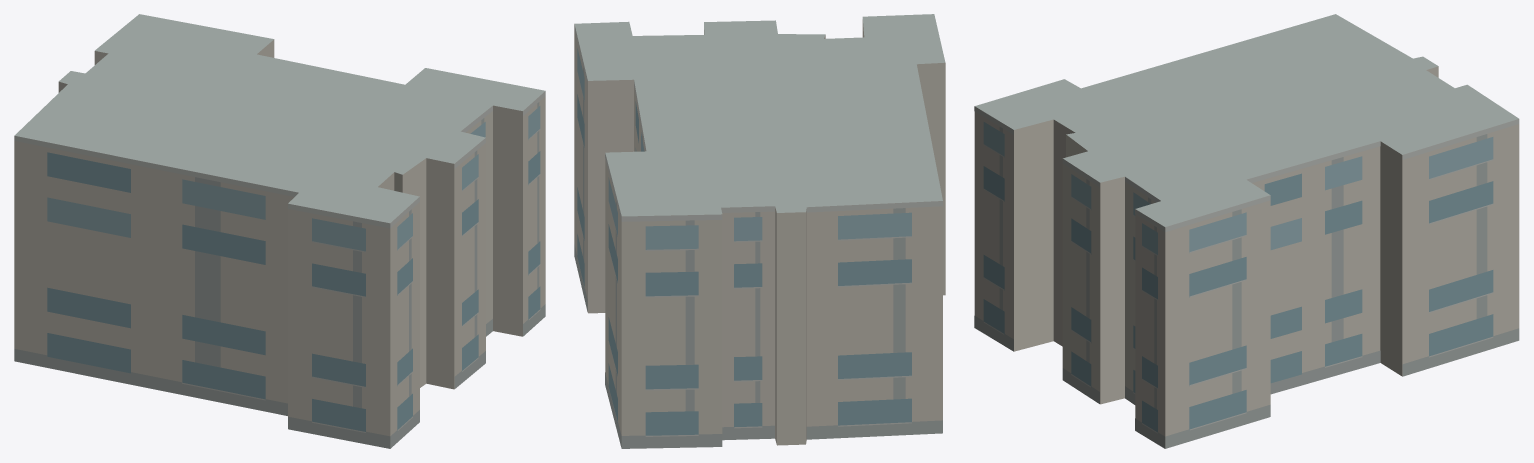
Rendered from survey-upis-32825644.glb.
3 views of the same model, side by side, from view 1: azimuth 30°, elevation 25°; view 2: azimuth 150°, elevation 25°; view 3: azimuth 270°, elevation 25° (orthographic). The views are drawn at different scales.
Visible parts, largest first — view 1: survey-upis-32825644.tmp; view 2: survey-upis-32825644.tmp; view 3: survey-upis-32825644.tmp.
Boxes of the visible parts, bbox=[...] form: survey-upis-32825644.tmp: bbox=[14, 14, 545, 448]; survey-upis-32825644.tmp: bbox=[574, 14, 945, 448]; survey-upis-32825644.tmp: bbox=[974, 14, 1519, 448].
Bounding box in the file's own units: 21.66 × 10.5 × 23.39.
